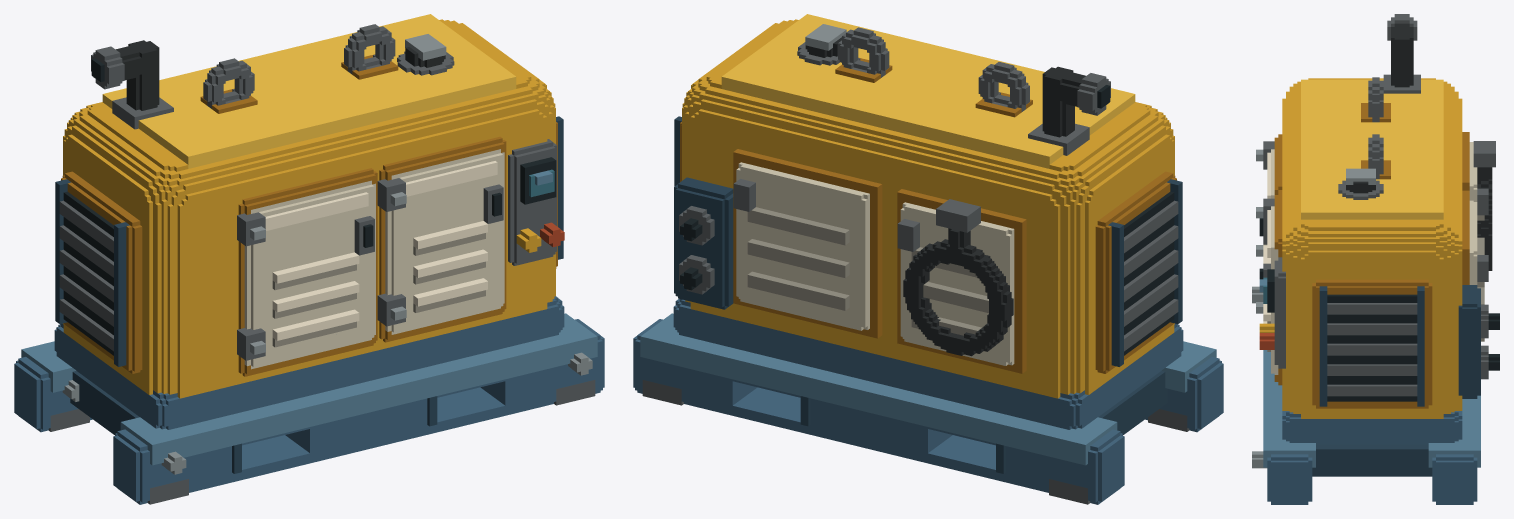
The model's file is generator.glb.
3 views of the same model, side by side, from view 1: azimuth 30°, elevation 25°; view 2: azimuth 150°, elevation 25°; view 3: azimuth 270°, elevation 25° (orthographic). The views are drawn at different scales.
Visible parts, largest first — view 1: generator; view 2: generator; view 3: generator.
Boxes of the visible parts, <box> form: generator: <box>14,14,604,504</box>; generator: <box>633,14,1223,504</box>; generator: <box>1252,14,1499,504</box>.
Bounding box in the file's own units: 4.8 × 3.76 × 2.64.
